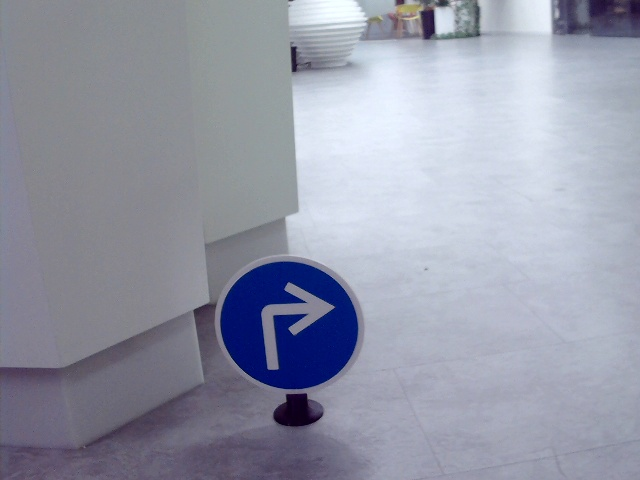turn_right: (256, 279, 331, 373)
